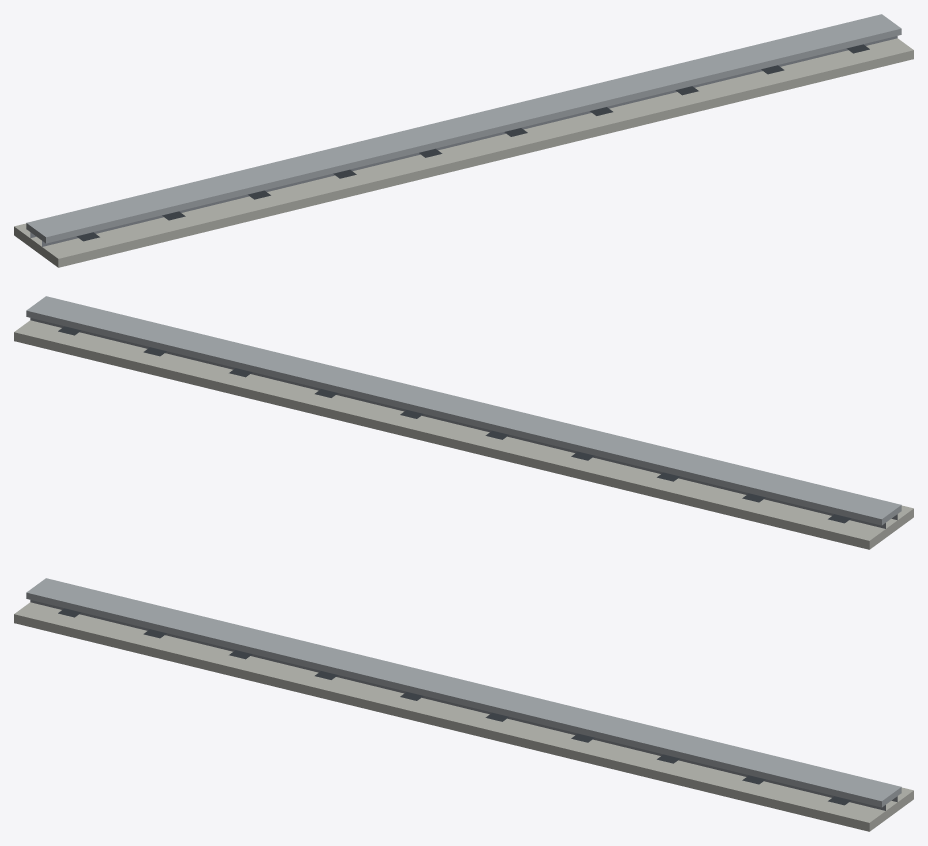
The model's file is yard-asc-rail.glb.
3 views of the same model, one above another, from view 1: azimuth 30°, elevation 25°; view 2: azimuth 150°, elevation 25°; view 3: azimuth 330°, elevation 25° (orthographic).
Visible parts, largest first — view 1: rail; view 2: rail; view 3: rail.
Boxes of the visible parts, box(x1,y1,x2,y2) form: rail: box(14, 14, 913, 267); rail: box(14, 296, 913, 549); rail: box(14, 578, 913, 831).
Size of the model in its own units: 10 by 0.2405 by 0.8997.
Materials: 1 (1 with a texture image).
